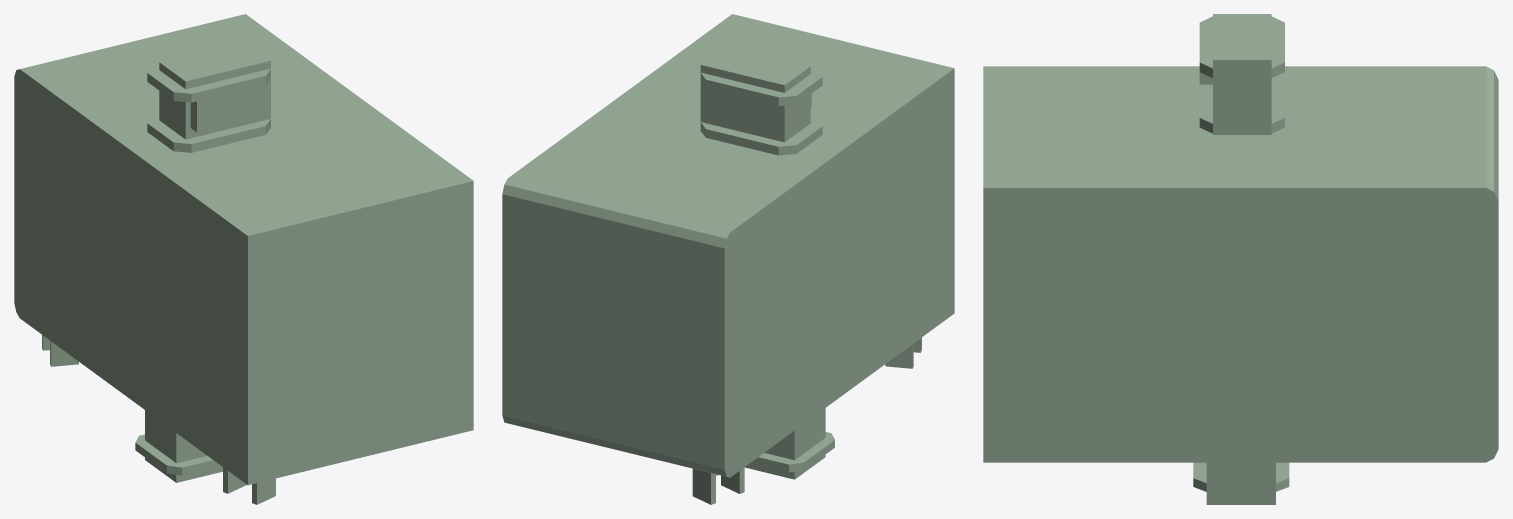
File: torso.dae
3 views of the same model, side by side, from view 1: azimuth 30°, elevation 25°; view 2: azimuth 150°, elevation 25°; view 3: azimuth 270°, elevation 25° (orthographic). The views are drawn at different scales.
Visible parts, largest first — view 1: torso; view 2: torso; view 3: torso.
Boxes of the visible parts, x1,y1,x2,y2 form: torso: [14, 14, 473, 504]; torso: [502, 14, 954, 504]; torso: [983, 14, 1498, 504].
Size of the model in its own units: 0.12 by 0.215 by 0.2012.
